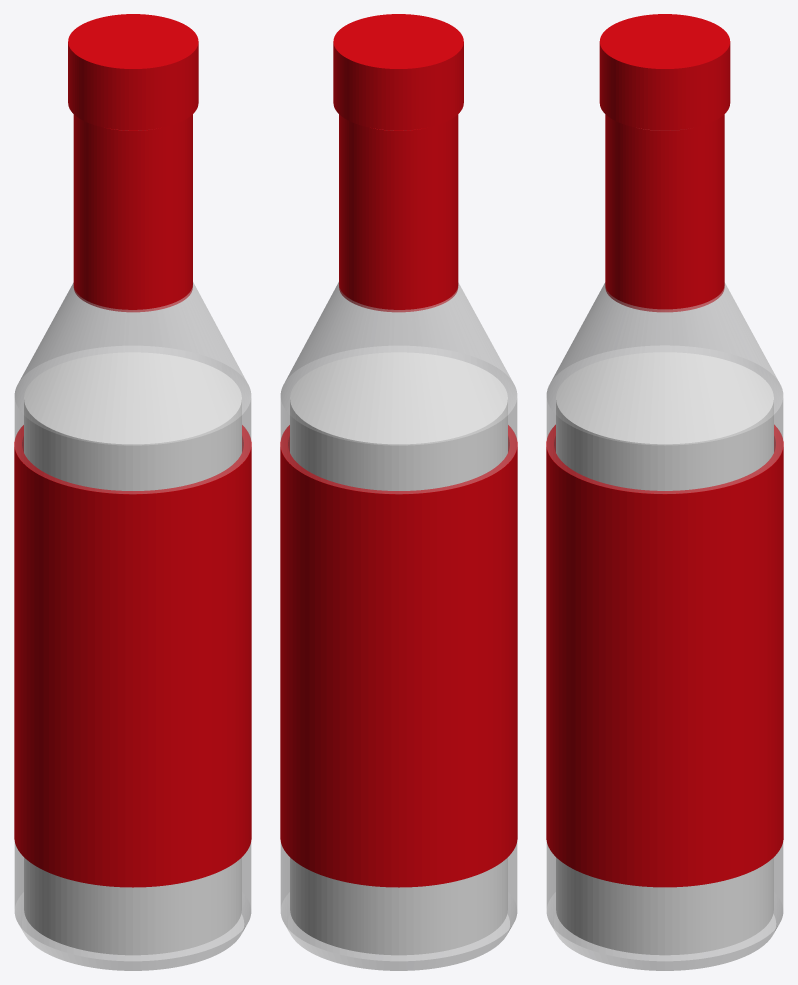
File: viin test.dae
The picture shows the model from 3 angles, left to right: view 1: azimuth 30°, elevation 25°; view 2: azimuth 150°, elevation 25°; view 3: azimuth 270°, elevation 25°; orthographic projection.
Parts seen in each view (by area): view 1: label, bottl, Cylinder, neck, cap; view 2: label, bottl, Cylinder, neck, cap; view 3: label, bottl, Cylinder, neck, cap.
Boxes of the visible parts, x1,y1,x2,y2 form: label: (14, 425, 251, 887); bottl: (14, 282, 251, 970); Cylinder: (24, 352, 241, 955); neck: (73, 114, 192, 312); cap: (68, 14, 198, 130); label: (280, 425, 517, 887); bottl: (280, 282, 517, 970); Cylinder: (290, 352, 507, 955); neck: (339, 114, 458, 312); cap: (333, 14, 463, 130); label: (546, 425, 783, 887); bottl: (546, 283, 783, 970); Cylinder: (556, 352, 773, 955); neck: (605, 114, 724, 312); cap: (599, 14, 730, 130).
Bounding box in the file's own units: 2.01 × 2.01 × 8.22.
